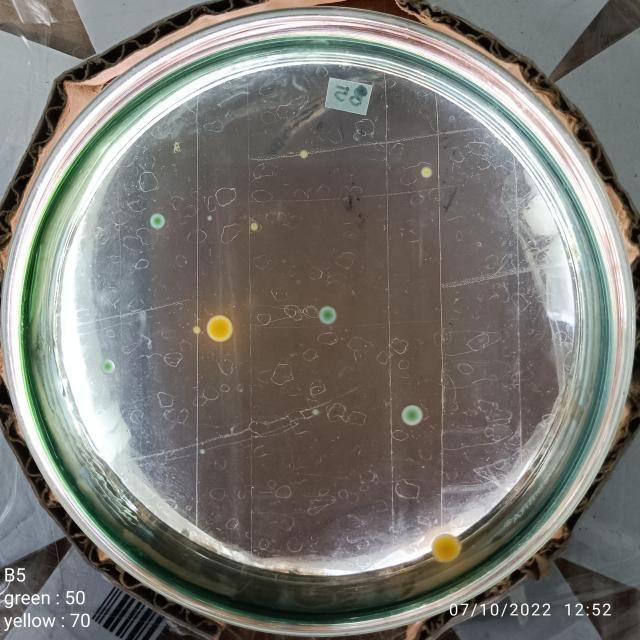green: (402, 406, 422, 426), (319, 307, 337, 324), (150, 214, 166, 229), (101, 359, 115, 374), (312, 409, 319, 415), (208, 216, 212, 221)
yellow: (431, 533, 461, 562), (207, 315, 233, 342), (421, 167, 432, 178), (300, 150, 308, 158), (250, 222, 258, 230), (193, 326, 200, 334)
